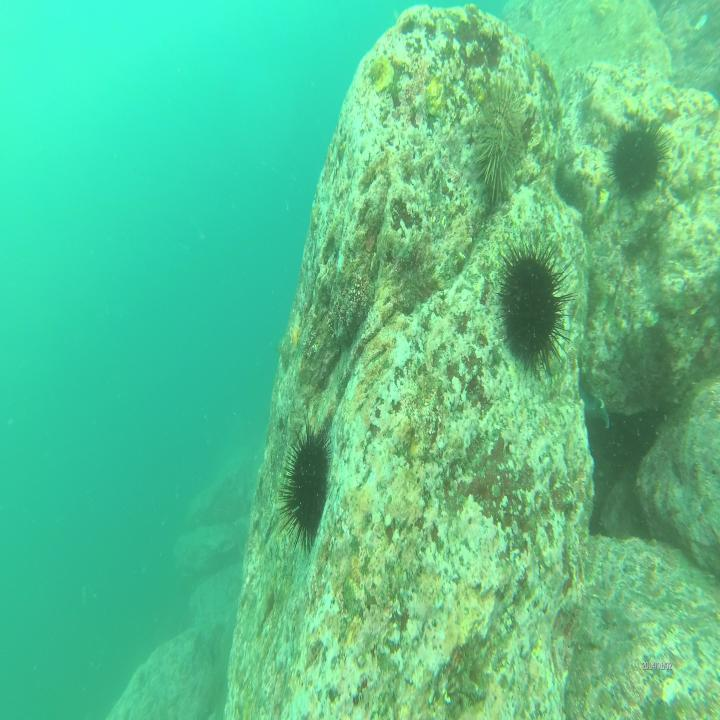echinus: (496, 228, 574, 376), (281, 412, 333, 564), (473, 77, 527, 199), (606, 108, 671, 202)
scallop: (364, 45, 395, 95), (424, 72, 445, 122)
